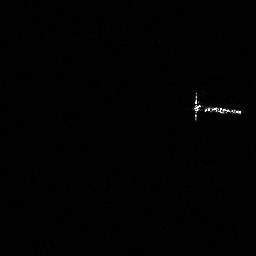ship: (189, 88, 243, 124)
